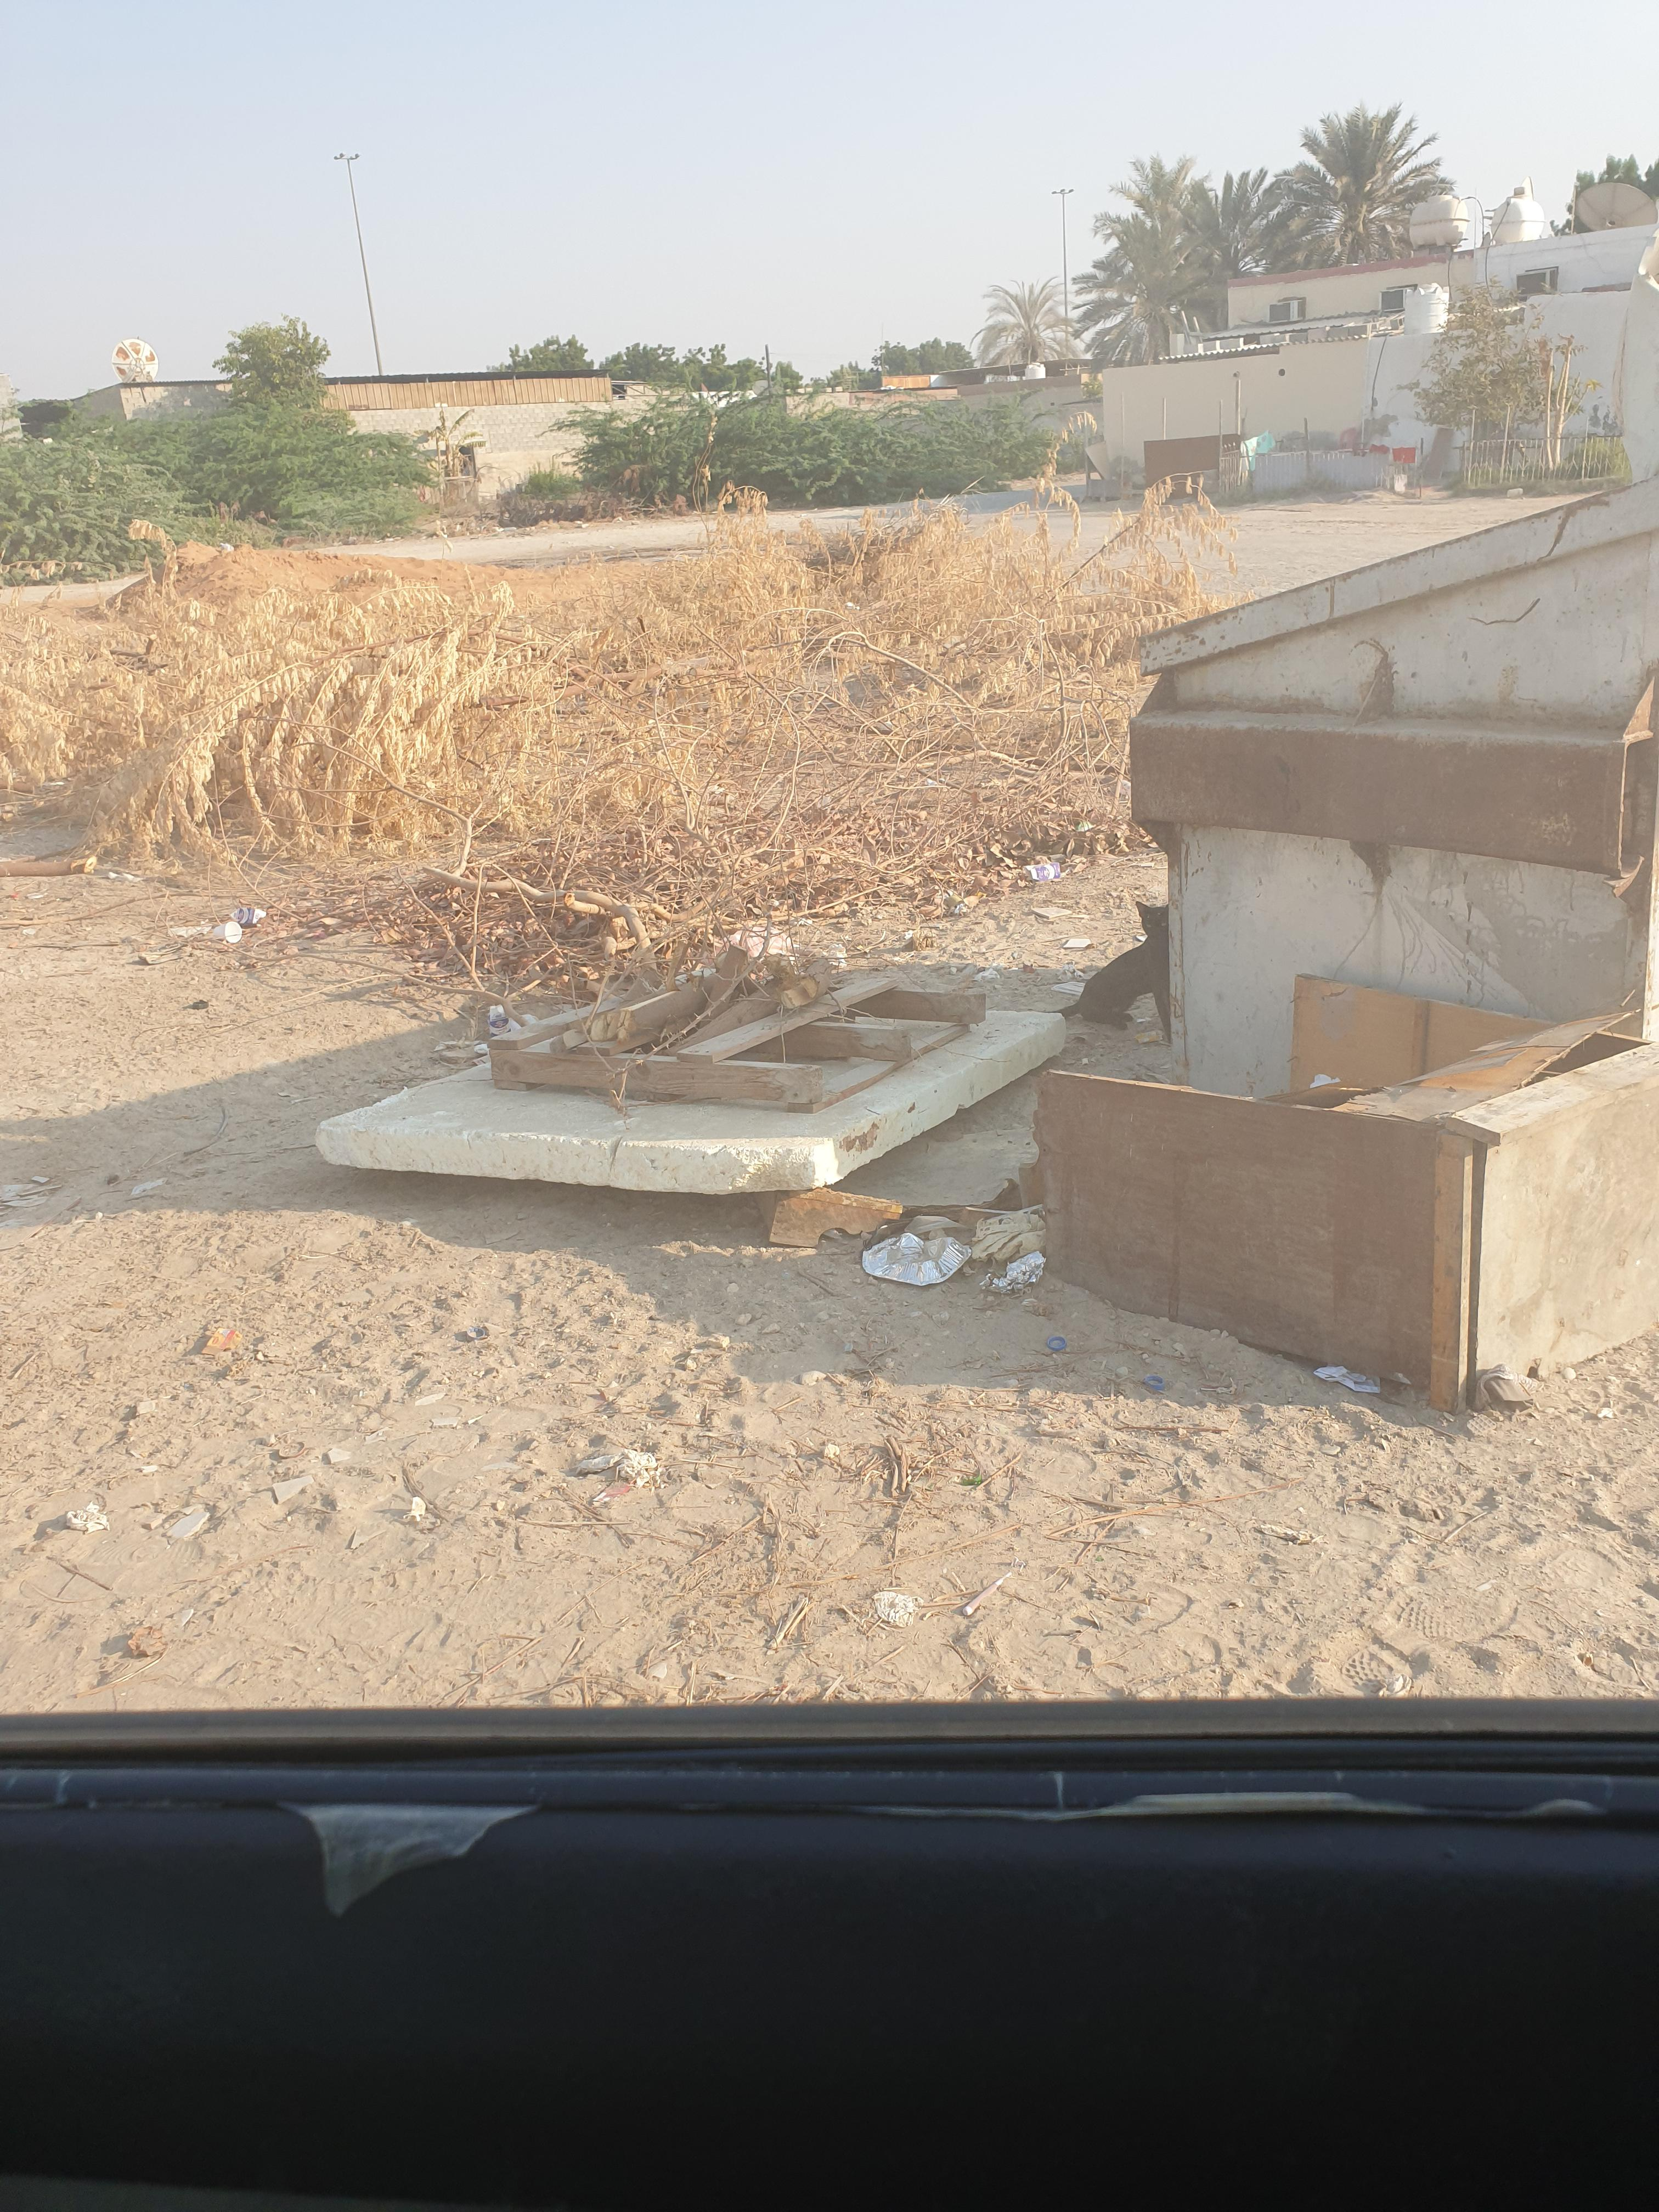fallen_trees: (70, 559, 1072, 956)
uncollected_waste: (1014, 1049, 1579, 1437), (275, 991, 1004, 1242), (589, 1092, 1122, 1331)
